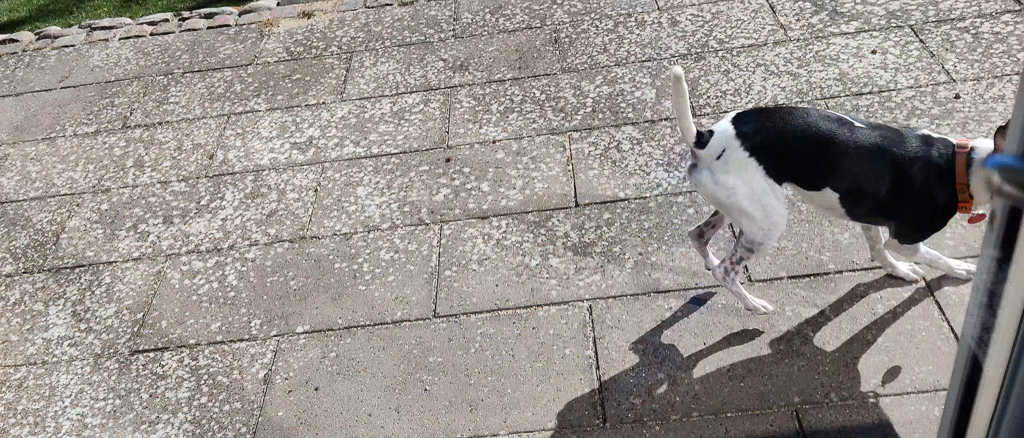Dog: (655, 48, 1024, 325)
